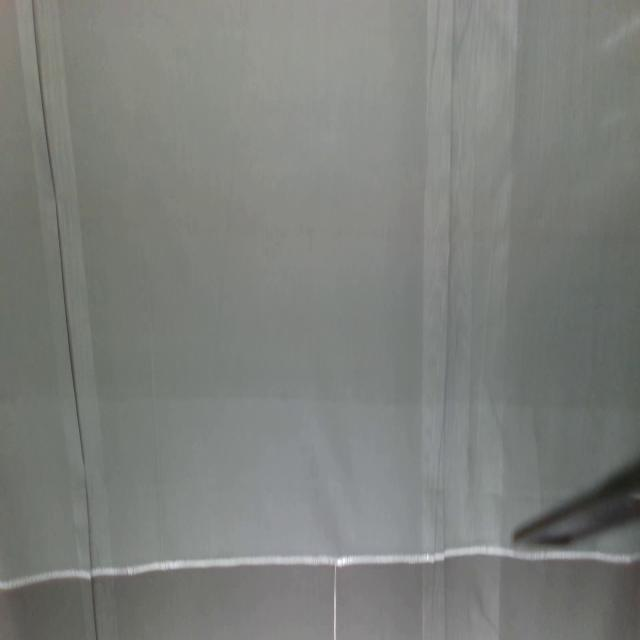crease: (24, 0, 110, 640), (421, 0, 472, 632)
